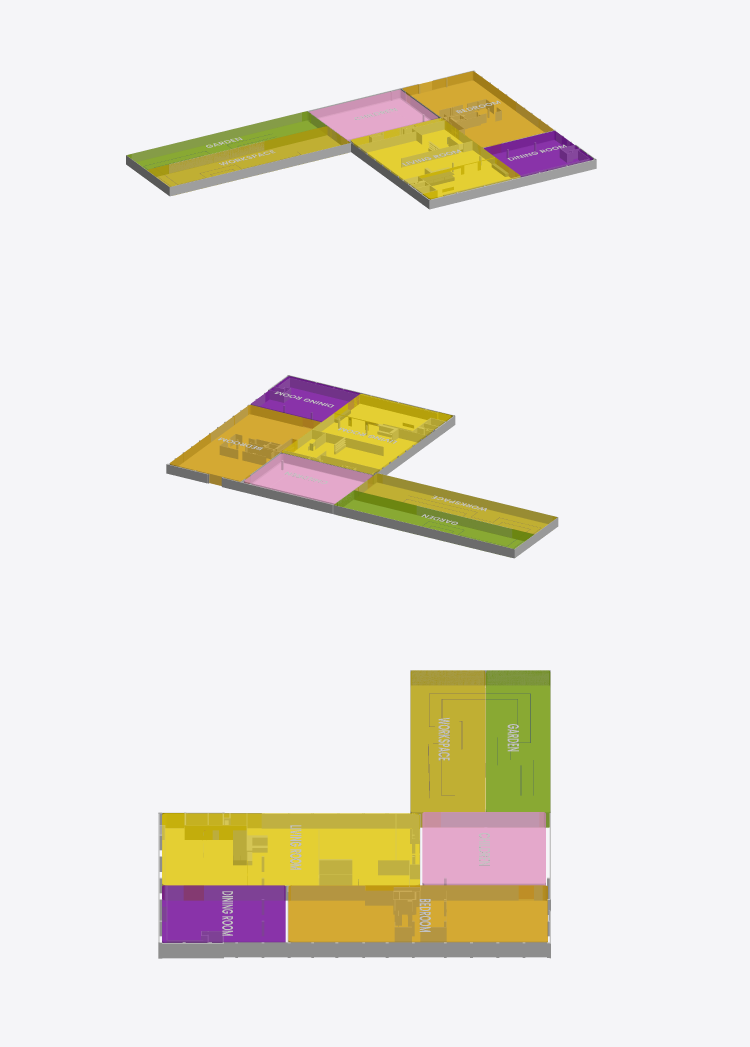
Rendered from Map.glb.
3 renders of one model, top to bottom at view 1: azimuth 30°, elevation 25°; view 2: azimuth 150°, elevation 25°; view 3: azimuth 270°, elevation 25°, orthographic. The views are drawn at different scales.
Visible parts, largest first — view 1: Geom3D_ (×14); view 2: Geom3D_ (×13); view 3: Geom3D_ (×13).
Part boxes in pixels (<box>): Geom3D_ (×14): <box>126,70,594,208</box>; Geom3D_ (×13): <box>166,376,557,558</box>; Geom3D_ (×13): <box>162,670,550,958</box>.
Size of the model in its own units: 181 by 4.06 by 142.
